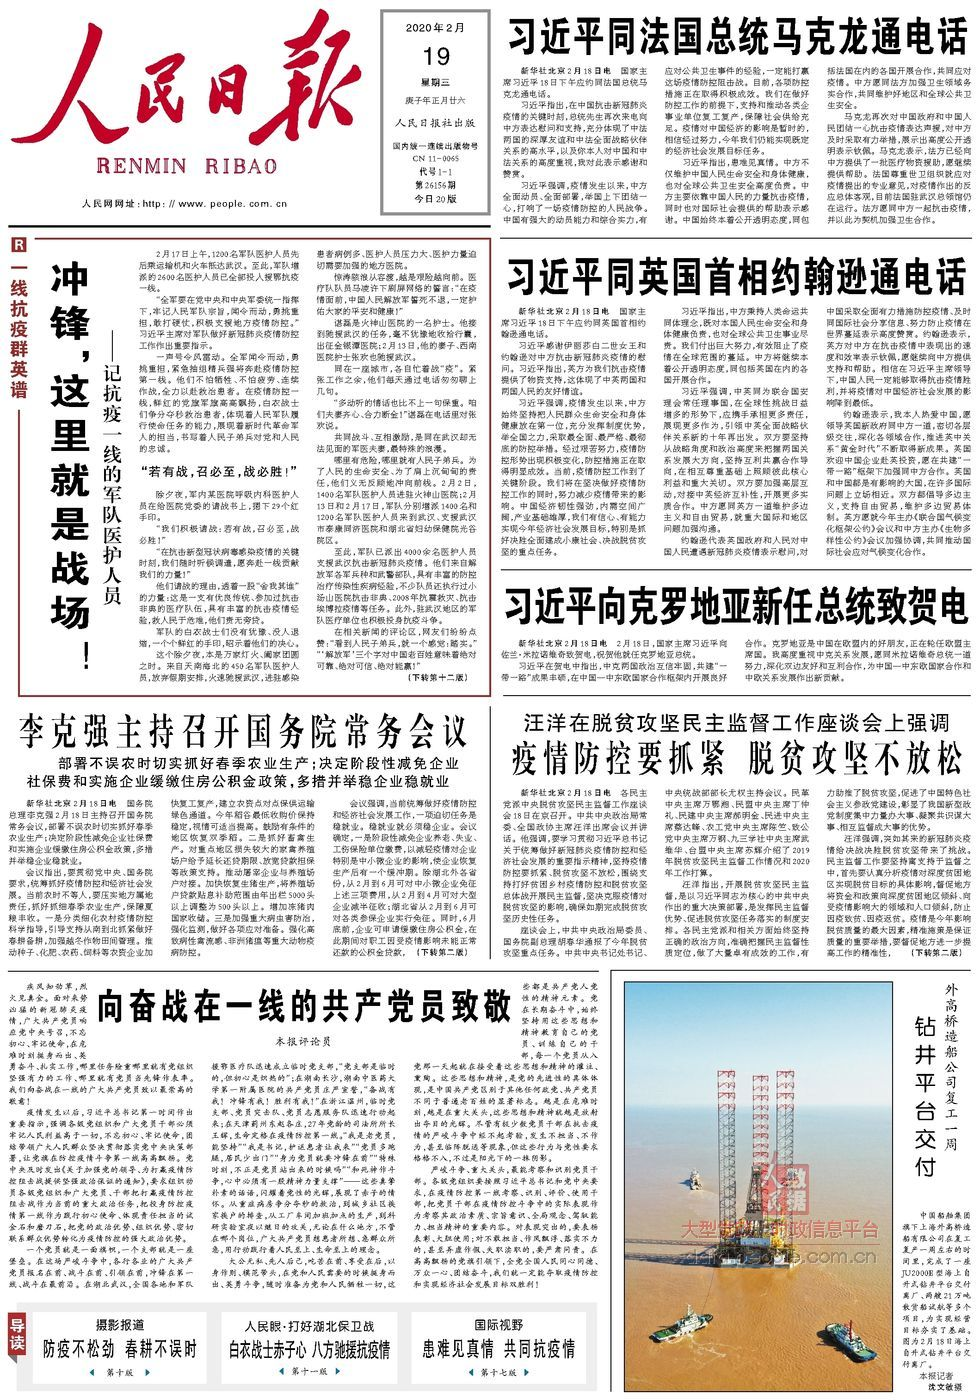pic: (618, 976, 899, 1397)
